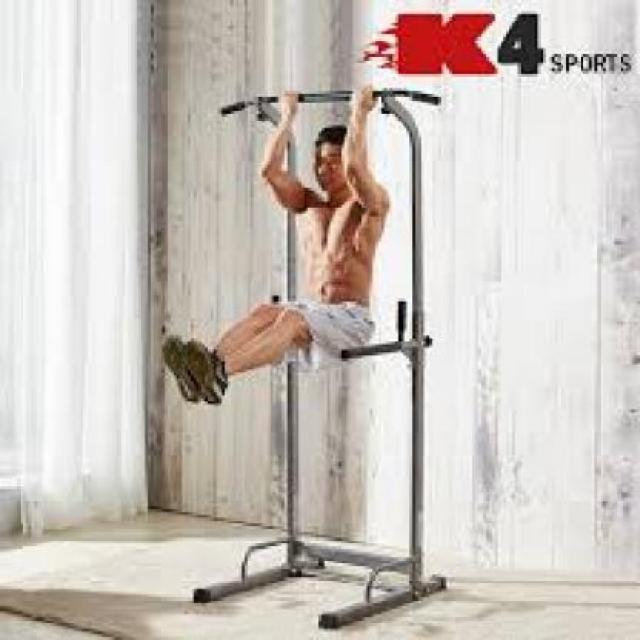chinning dipping: (222, 83, 449, 629)
